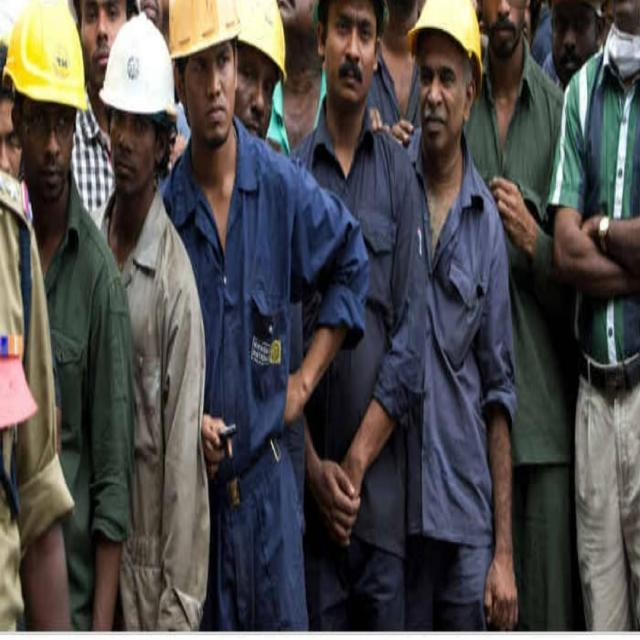safety_helmet: (0, 4, 89, 111), (99, 9, 176, 119), (406, 0, 484, 70), (166, 0, 241, 64), (231, 0, 289, 77)
